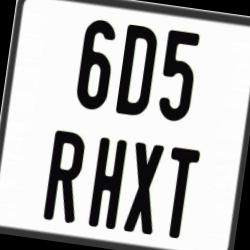5: (156, 28, 200, 124)
6: (74, 18, 118, 112)
D: (115, 25, 162, 121)
H: (86, 136, 128, 230)
R: (42, 130, 85, 224)
T: (158, 146, 199, 242)
X: (122, 142, 165, 235)
